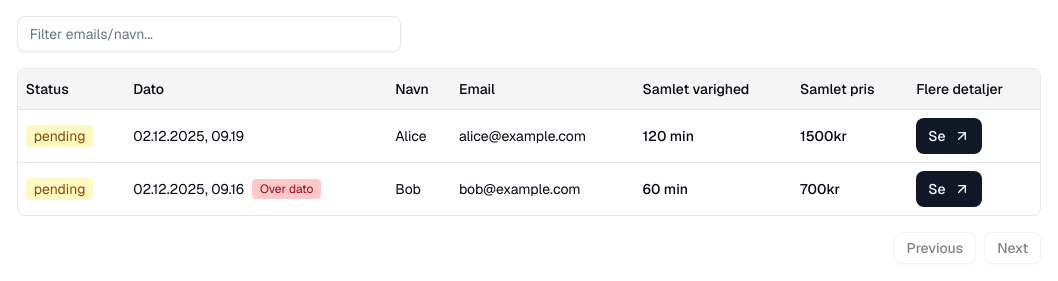
Test: BookingTable › shows 'No results' when filter excludes all rows
In the field with placeholder "Filter emails/navn...": (209, 34) [17,16,401,52], type "ZZZ"
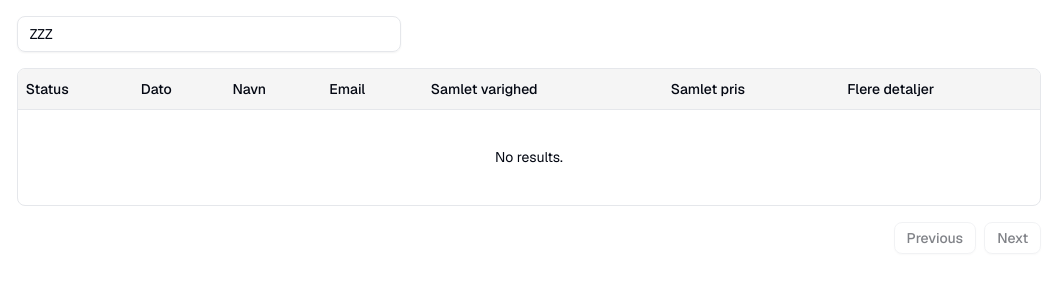
Expected: the text "No results." is shown, [18,109,1040,205]
